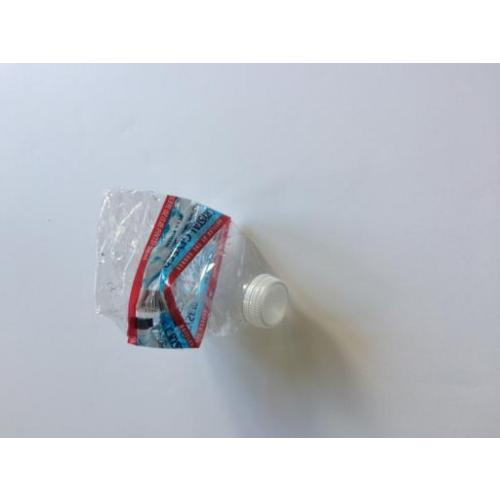plastic: (96, 188, 288, 349)
